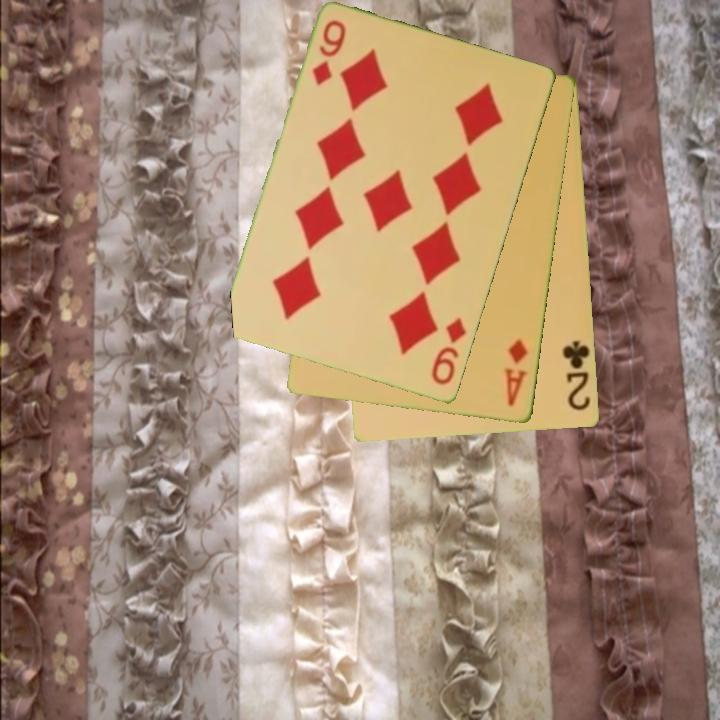2c: (560, 337, 593, 413)
9d: (428, 314, 469, 389), (309, 17, 349, 89)
Ad: (501, 336, 531, 410)
